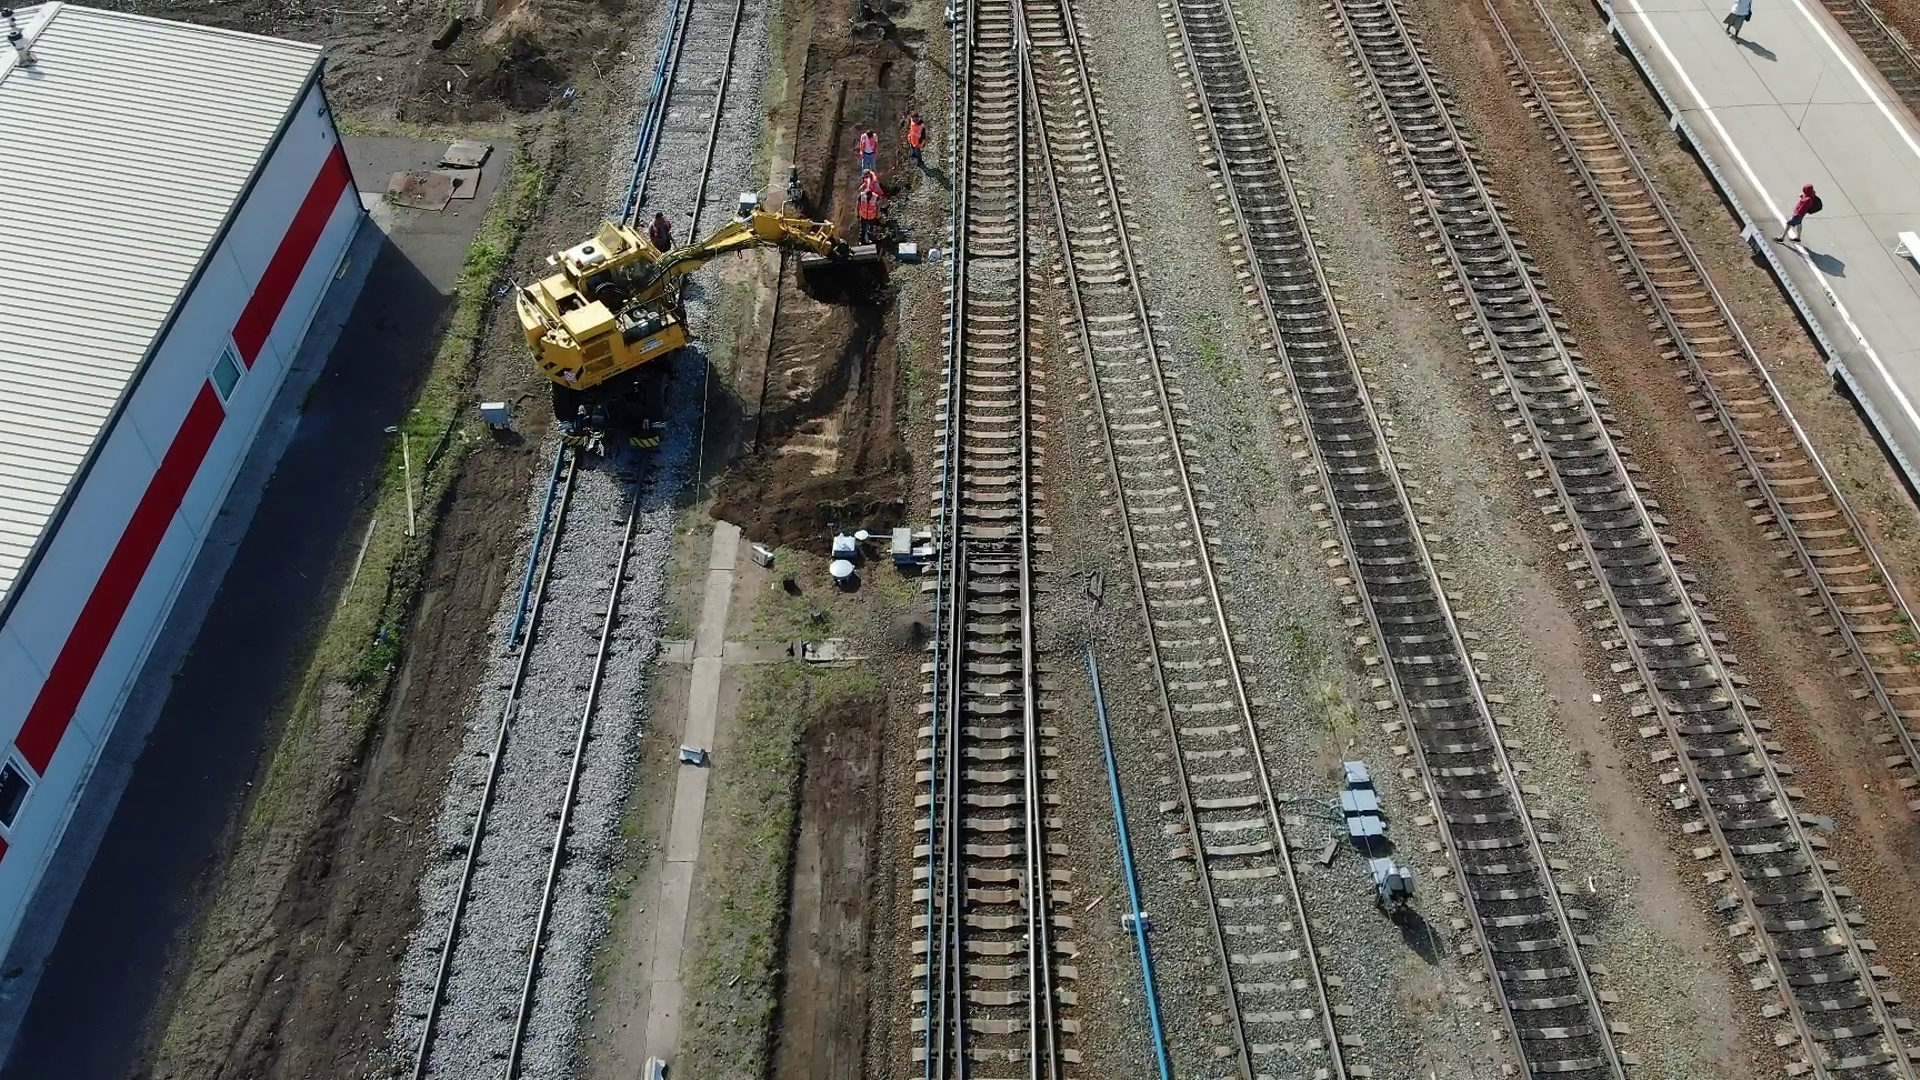kjtv: (512, 207, 745, 417)
